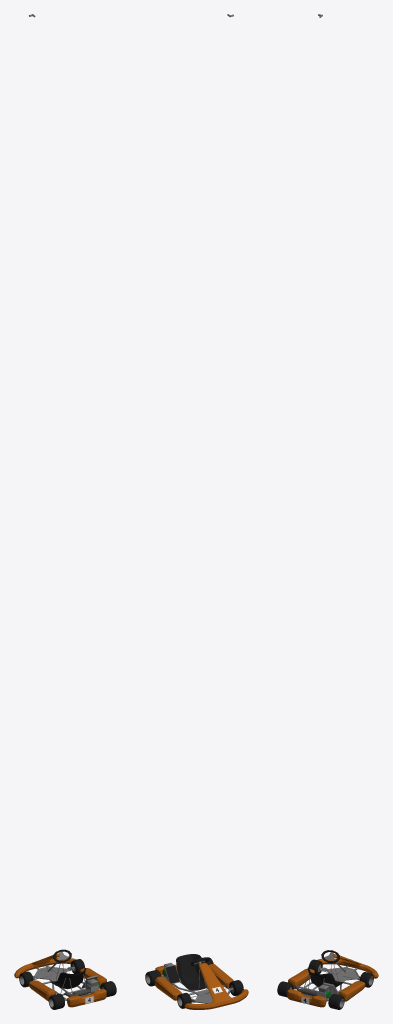
The model's file is kart2.glb.
The picture shows the model from 3 angles, left to right: view 1: azimuth 30°, elevation 25°; view 2: azimuth 210°, elevation 25°; view 3: azimuth 330°, elevation 25°; orthographic projection. The views are drawn at different scales.
Visible parts, largest first — view 1: Plane, Cube.004, Plane.001, Cube.003, Cube.002; view 2: Cube.004, Plane.001, Plane, Cube.001; view 3: Plane, Cube.004, Cube.003, Plane.001, Cube.001, Cube.002.
Part boxes in pixels (x1,y1,x2,y2): Plane: [29, 14, 90, 1000]; Cube.004: [14, 953, 75, 978]; Plane.001: [50, 968, 86, 989]; Cube.003: [67, 989, 106, 1007]; Cube.002: [29, 980, 55, 1001]; Cube.004: [184, 962, 248, 1009]; Plane.001: [176, 954, 207, 990]; Plane: [161, 14, 233, 1003]; Cube.001: [155, 976, 181, 1000]; Plane: [298, 14, 360, 1001]; Cube.004: [317, 954, 378, 978]; Cube.003: [287, 989, 326, 1007]; Plane.001: [307, 967, 343, 987]; Cube.001: [338, 981, 365, 1001]; Cube.002: [288, 968, 314, 989].
Size of the model in its own units: 6.11 by 90.71 by 8.56.
